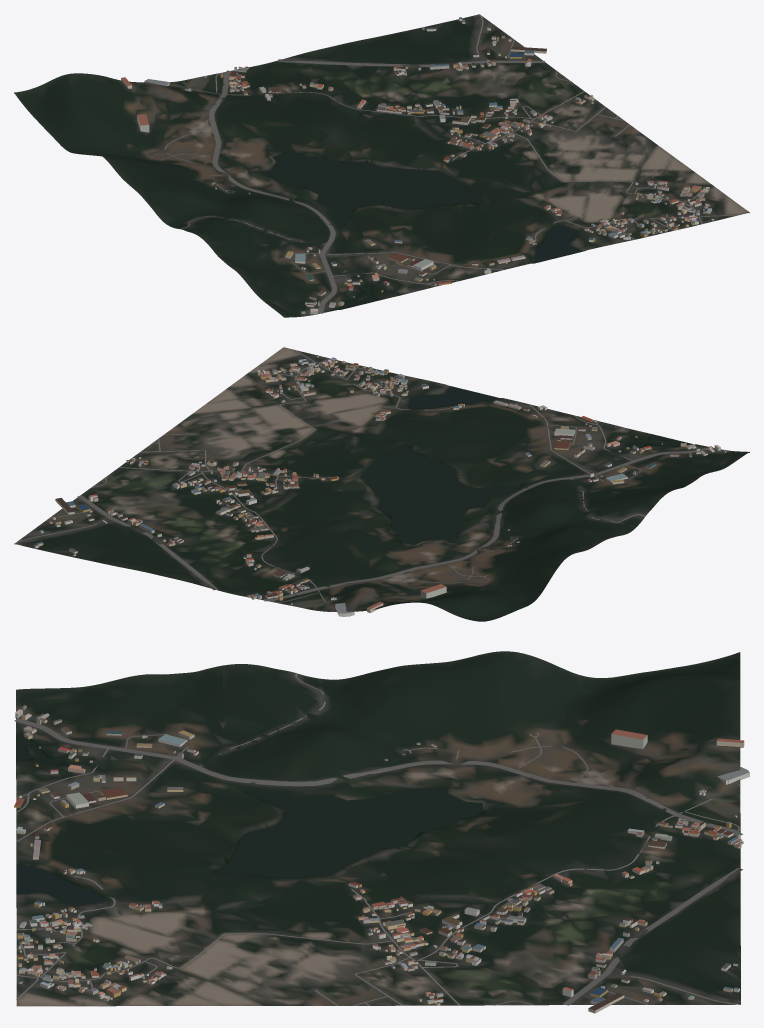
3 renders of one model, top to bottom at view 1: azimuth 30°, elevation 25°; view 2: azimuth 150°, elevation 25°; view 3: azimuth 270°, elevation 25°, orthographic. The views are drawn at different scales.
Parts seen in each view (by area): view 1: ground, water, buildings, roads; view 2: ground, buildings, water, roads; view 3: ground, buildings, water, roads.
Part boxes in pixels (bbox=[...]): ground: bbox=[14, 14, 749, 317]; water: bbox=[261, 153, 582, 309]; buildings: bbox=[121, 17, 714, 314]; roads: bbox=[156, 14, 739, 313]; ground: bbox=[14, 347, 749, 621]; buildings: bbox=[34, 355, 726, 616]; water: bbox=[361, 386, 692, 545]; roads: bbox=[14, 349, 714, 611]; ground: bbox=[16, 651, 740, 1006]; buildings: bbox=[14, 705, 749, 1013]; water: bbox=[16, 734, 482, 906]; roads: bbox=[14, 673, 742, 1005].
Bounding box in the file's own units: 1437 × 123 × 1425.
